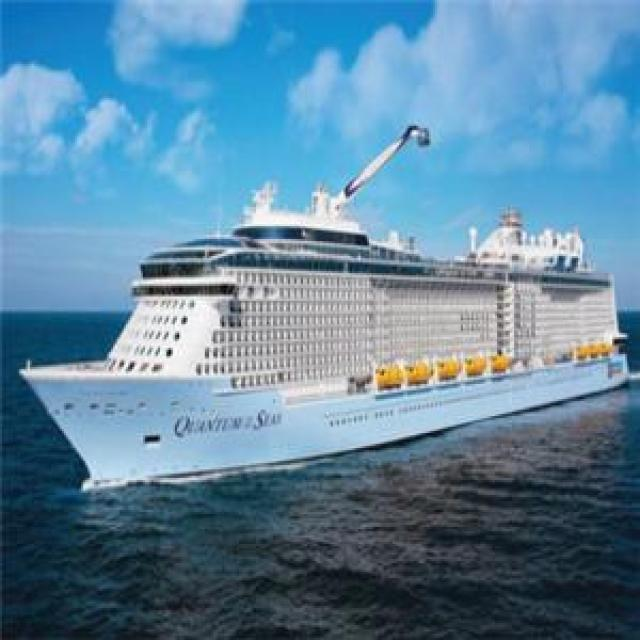passenger ship: (16, 178, 636, 474)
